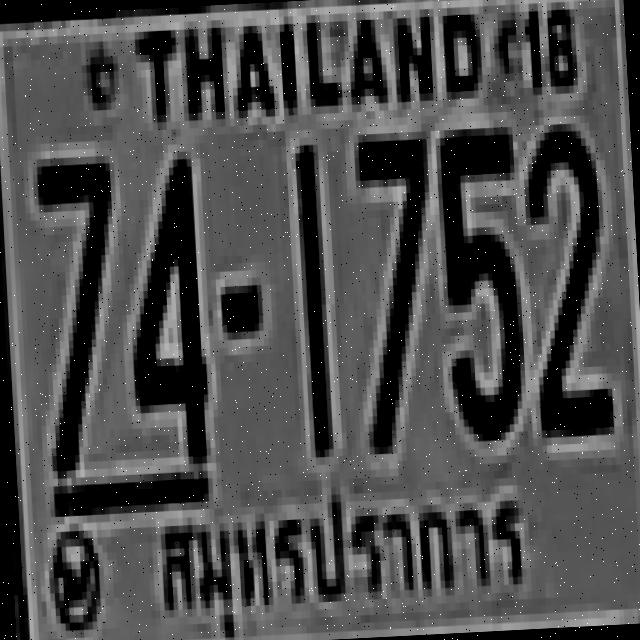1: (290, 141, 330, 454)
2: (518, 118, 608, 434)
4: (118, 151, 206, 459)
5: (434, 119, 524, 435)
7: (31, 152, 120, 468), (353, 132, 438, 448), (31, 156, 116, 373), (353, 132, 432, 356)
SamutPrakan: (149, 484, 534, 628)
